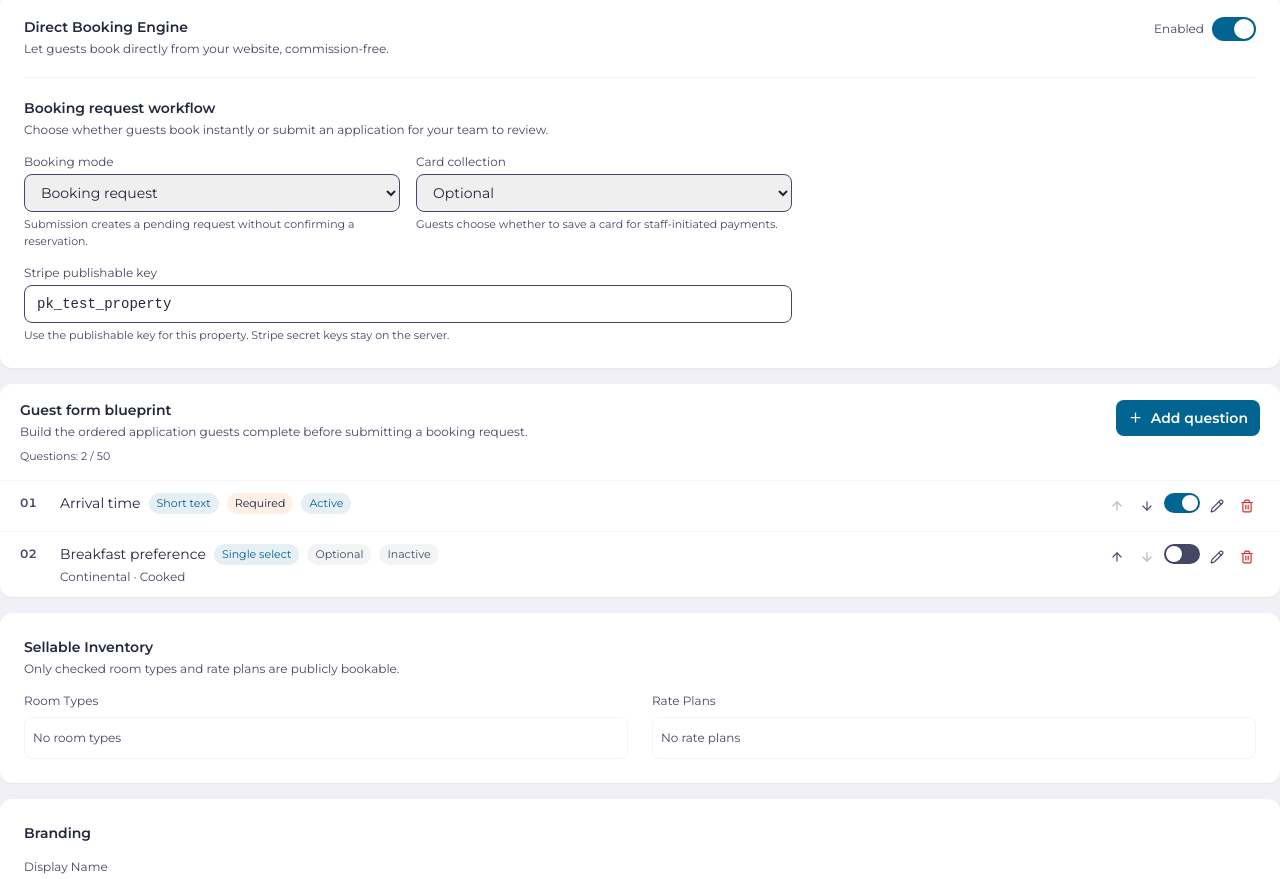
Scenario: BookingEngineSettings request configuration › keeps a stale draft intact and reloads latest settings only on explicit review
Step 1. Select "Instant booking" in the dropdown labelled "Booking mode" → (212, 193), box [24,174,400,212]
(page scrolled)
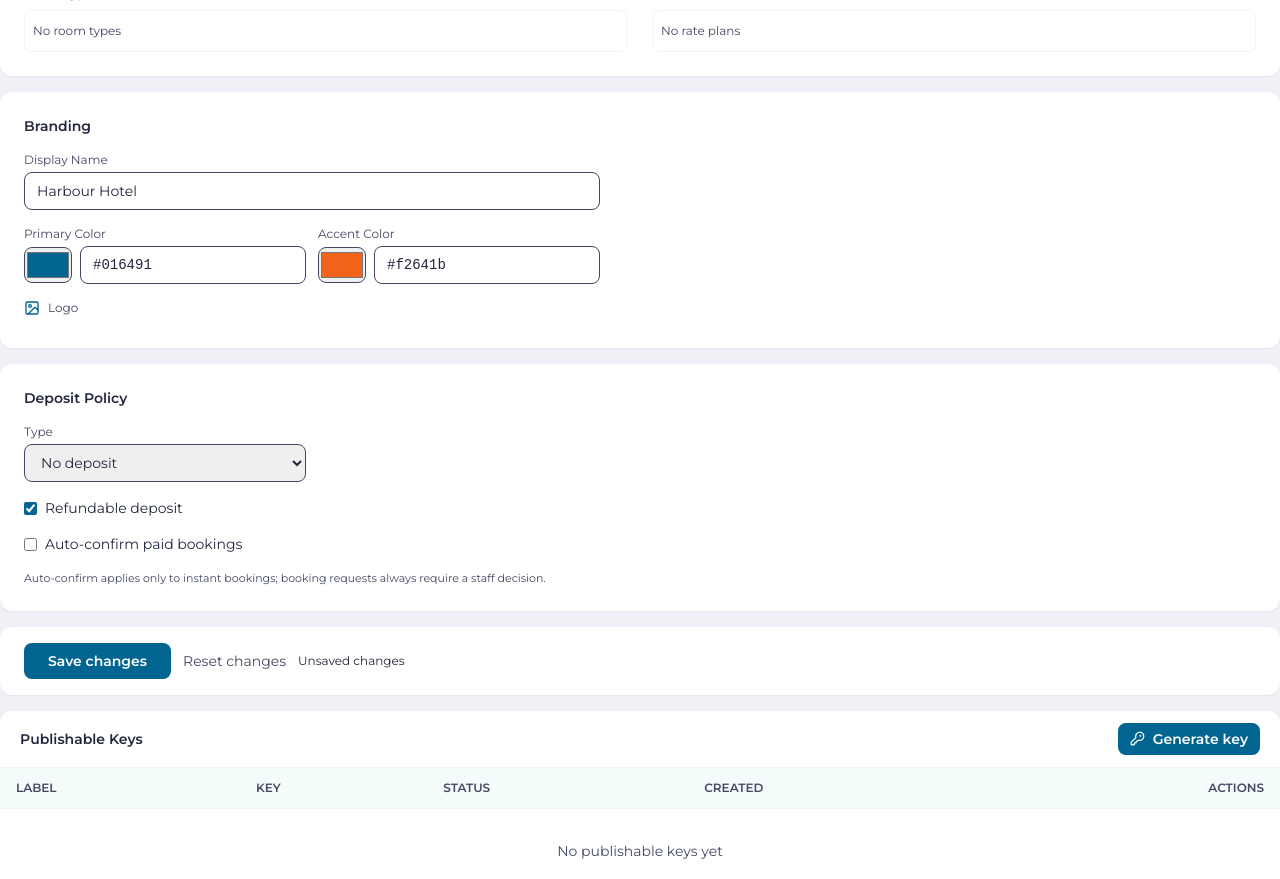
Step 2. Click the button "Save changes" → (98, 660), box [24,642,171,678]
(page scrolled)
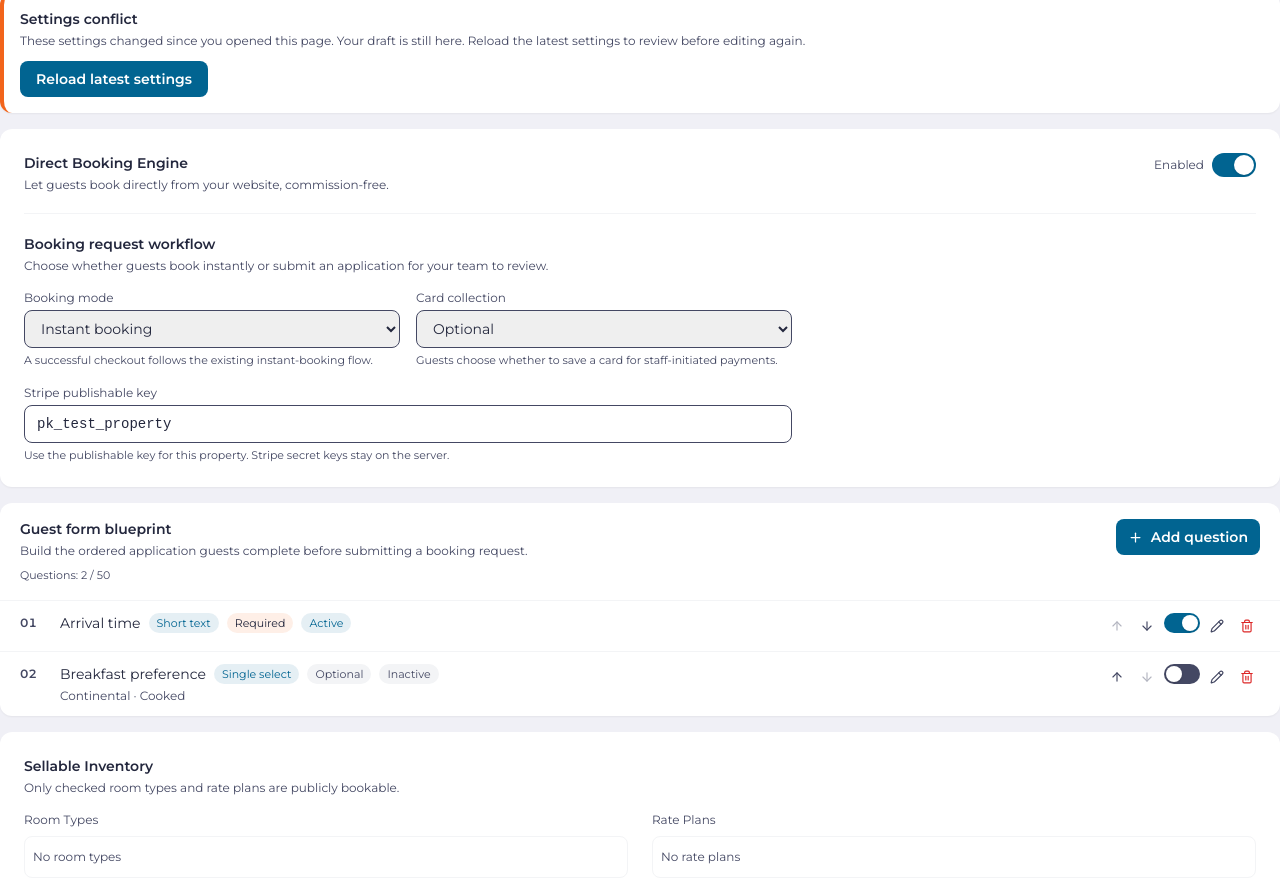
Now the message "Settings conflict" shows "changed since you opened this page", box [20,33,805,48]
Step 3. Click the button "Reload latest settings" → (114, 79), box [20,61,208,97]
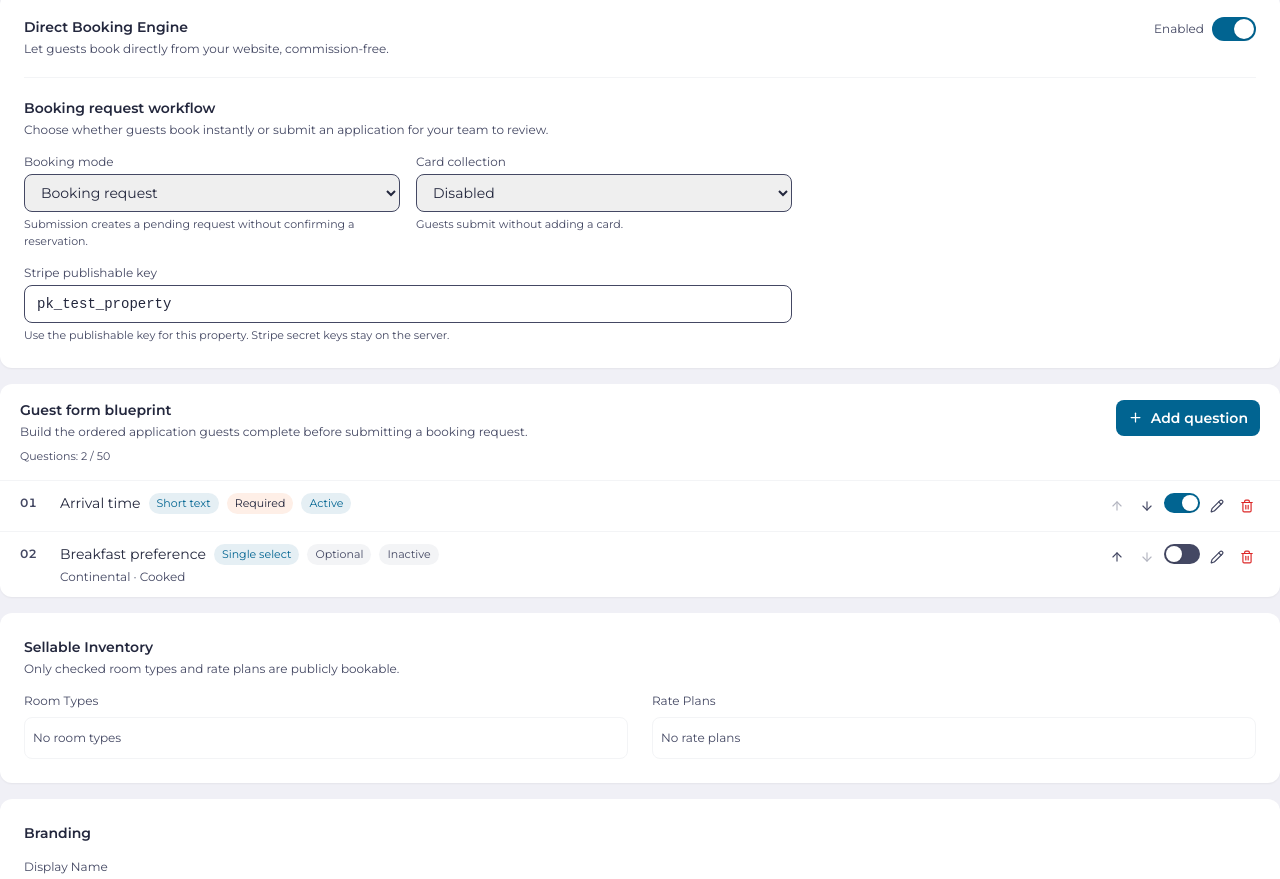
Now the dropdown labelled "Card collection" shows "Disabled", box [416,174,792,212]
Now the text "Settings conflict" is gone
